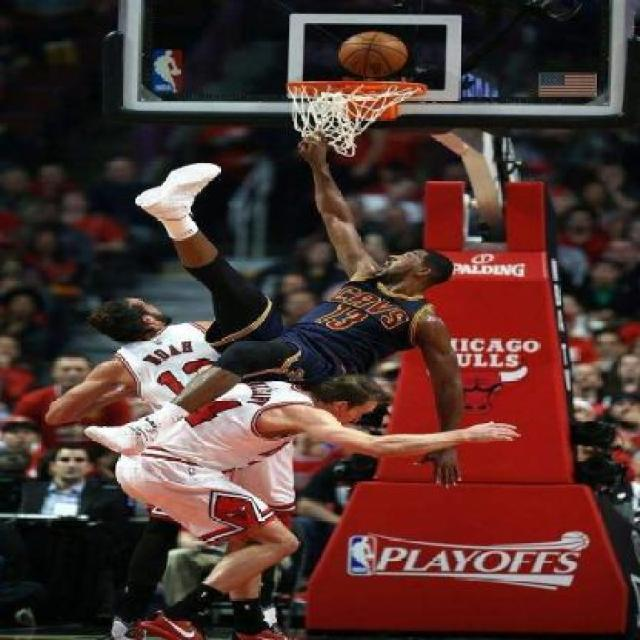basketball: (338, 30, 409, 78)
rim: (286, 80, 426, 156)
